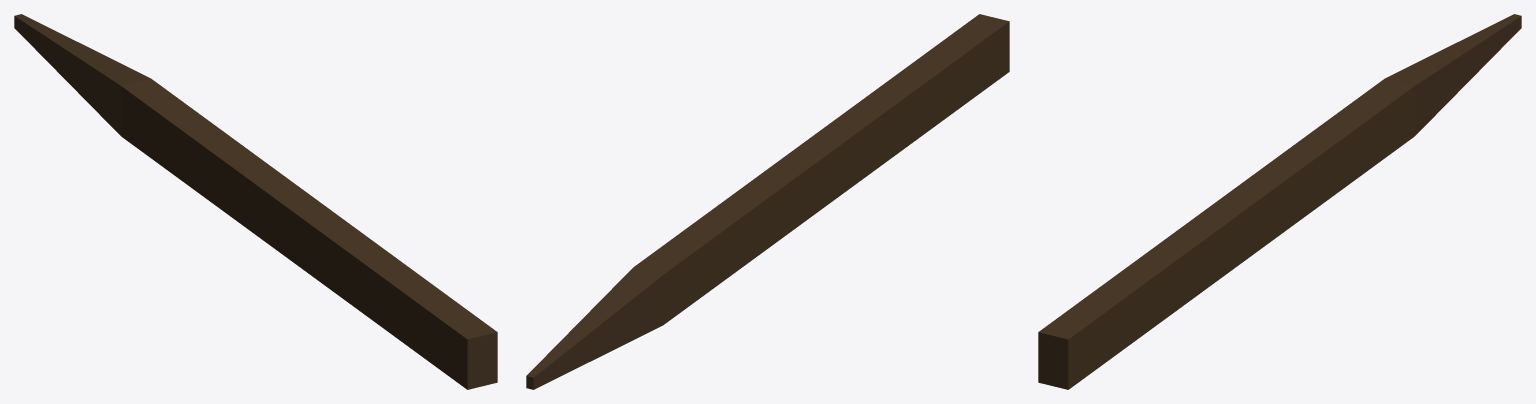
File: poker_combat.obj
3 views of the same model, side by side, from view 1: azimuth 30°, elevation 25°; view 2: azimuth 150°, elevation 25°; view 3: azimuth 330°, elevation 25° (orthographic).
Parts seen in each view (by area): view 1: Box004; view 2: Box004; view 3: Box004.
Boxes of the visible parts, left/top/right/bottom form: Box004: left=14, top=14, right=497, bottom=389; Box004: left=526, top=14, right=1009, bottom=389; Box004: left=1038, top=14, right=1521, bottom=389.
Size of the model in its own units: 0.1742 by 0.2788 by 4.65.
